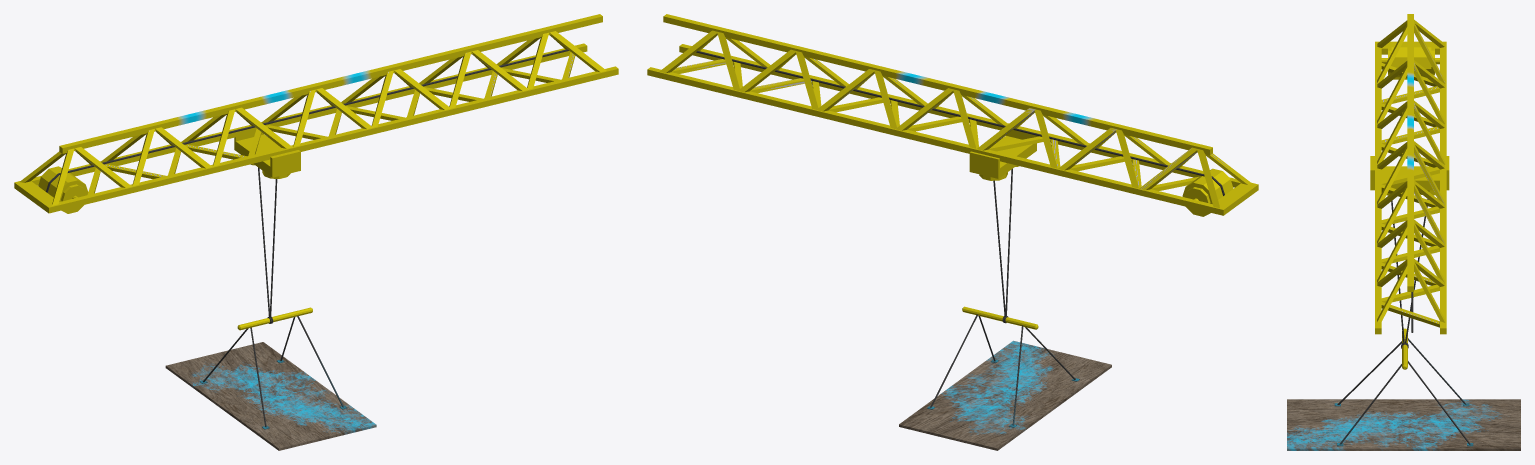
Rendered from grue.fbx.
3 views of the same model, side by side, from view 1: azimuth 30°, elevation 25°; view 2: azimuth 150°, elevation 25°; view 3: azimuth 270°, elevation 25° (orthographic). The views are drawn at different scales.
Visible parts, largest first — view 1: grue; view 2: grue; view 3: grue.
Part boxes in pixels (box(x1,y1,x2,y2)): grue: box(14, 14, 618, 450); grue: box(647, 14, 1258, 450); grue: box(1287, 14, 1520, 450).
Bounding box in the file's own units: 1806 × 906 × 622.
Materials: 1 (1 with a texture image).
